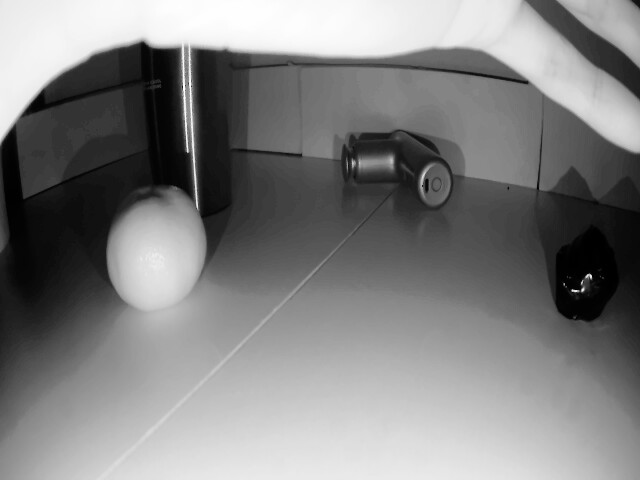silver: (544, 235, 615, 323)
